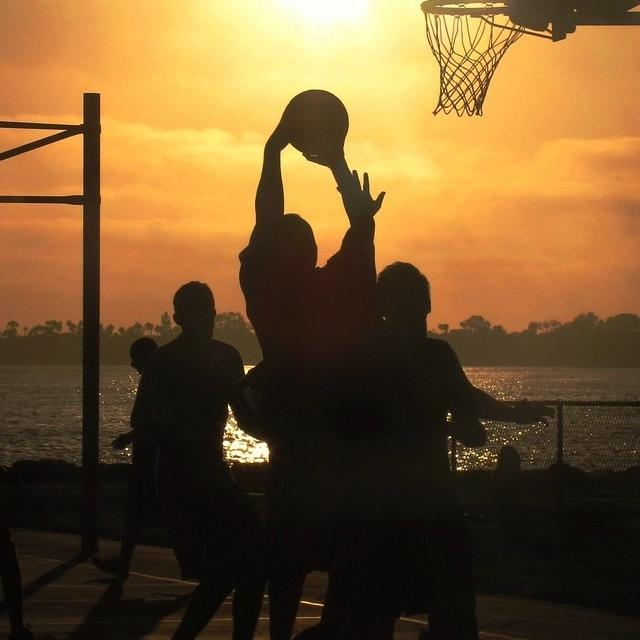basketball: (283, 89, 350, 161)
hoop: (421, 0, 521, 119)
